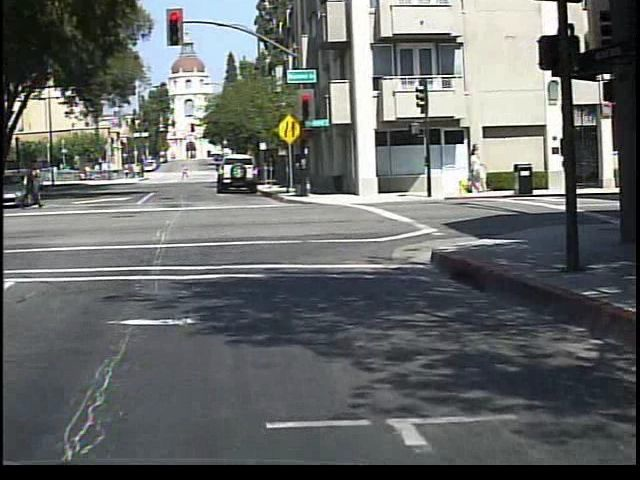person: (7, 168, 34, 222), (22, 165, 45, 208), (182, 163, 193, 180)
